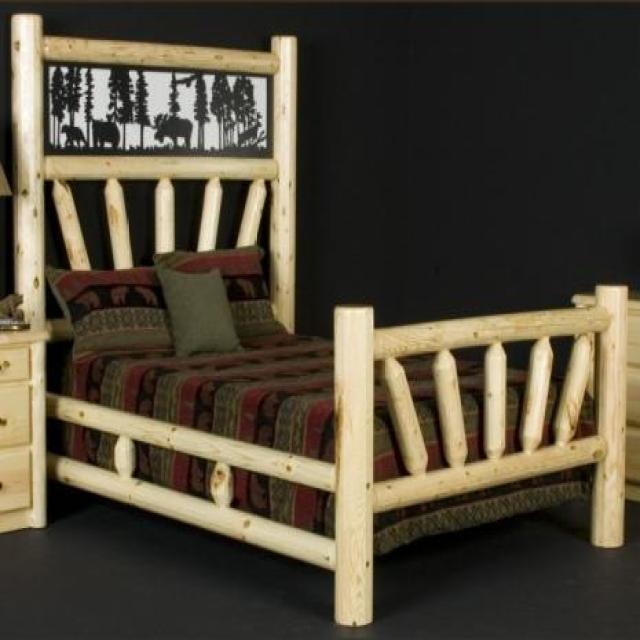bed: (7, 11, 629, 626)
